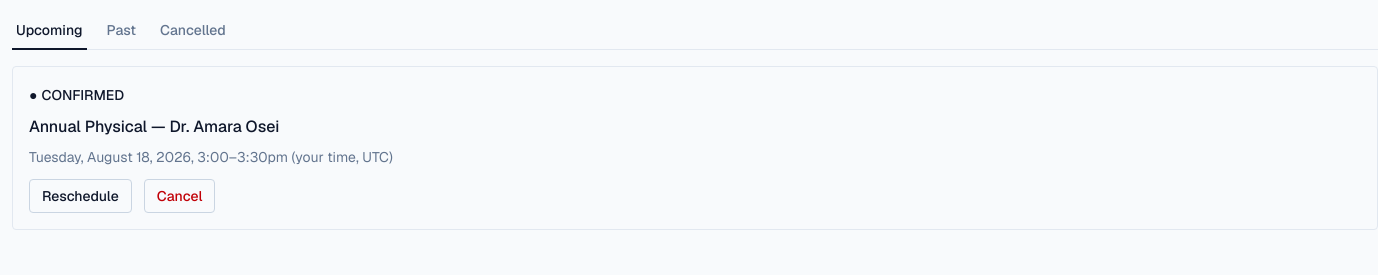
Scenario: PatientAppointments › surfaces the server's specific rejection message when a cancel is rejected inside the notice window
Expected: the text "Annual Physical — Dr. Amara Osei" is shown, [29,116,279,137]
Click the button with aria-label "cancel:" at (180, 196), box [144,179,215,213]
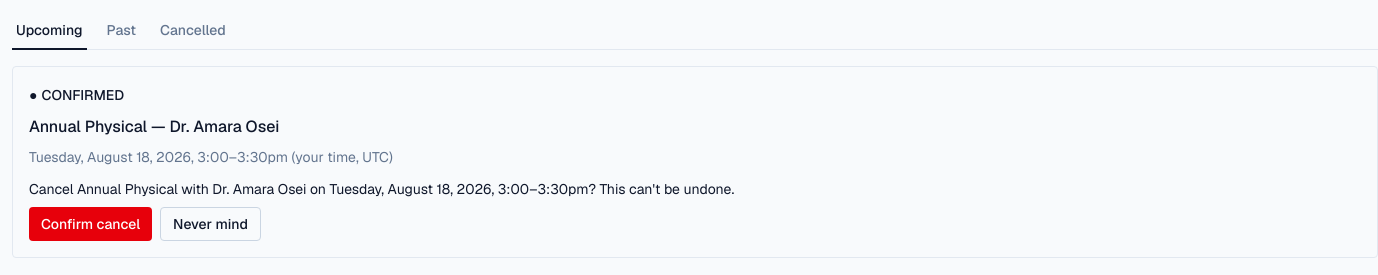
Click the button "Confirm cancel" at (91, 224), box [29,207,152,241]
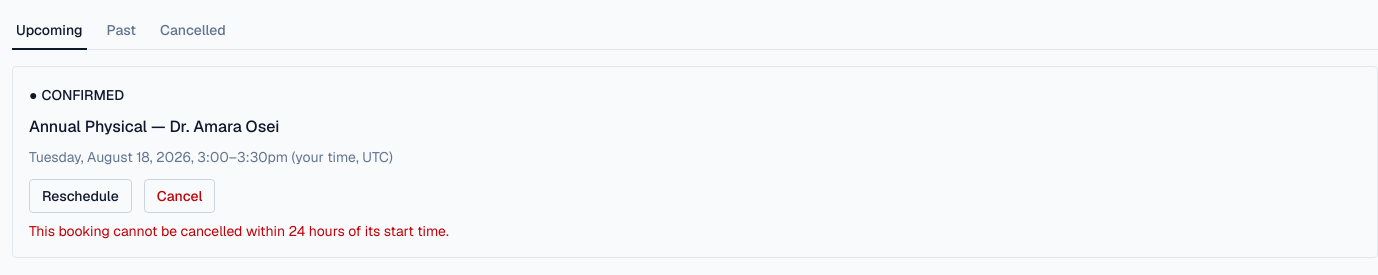
Expected: the text "CONFIRMED" is shown, [42,86,124,104]
Expected: the message reads "This booking cannot be cancelled within 24 hours of its start time.", [29,222,449,240]
